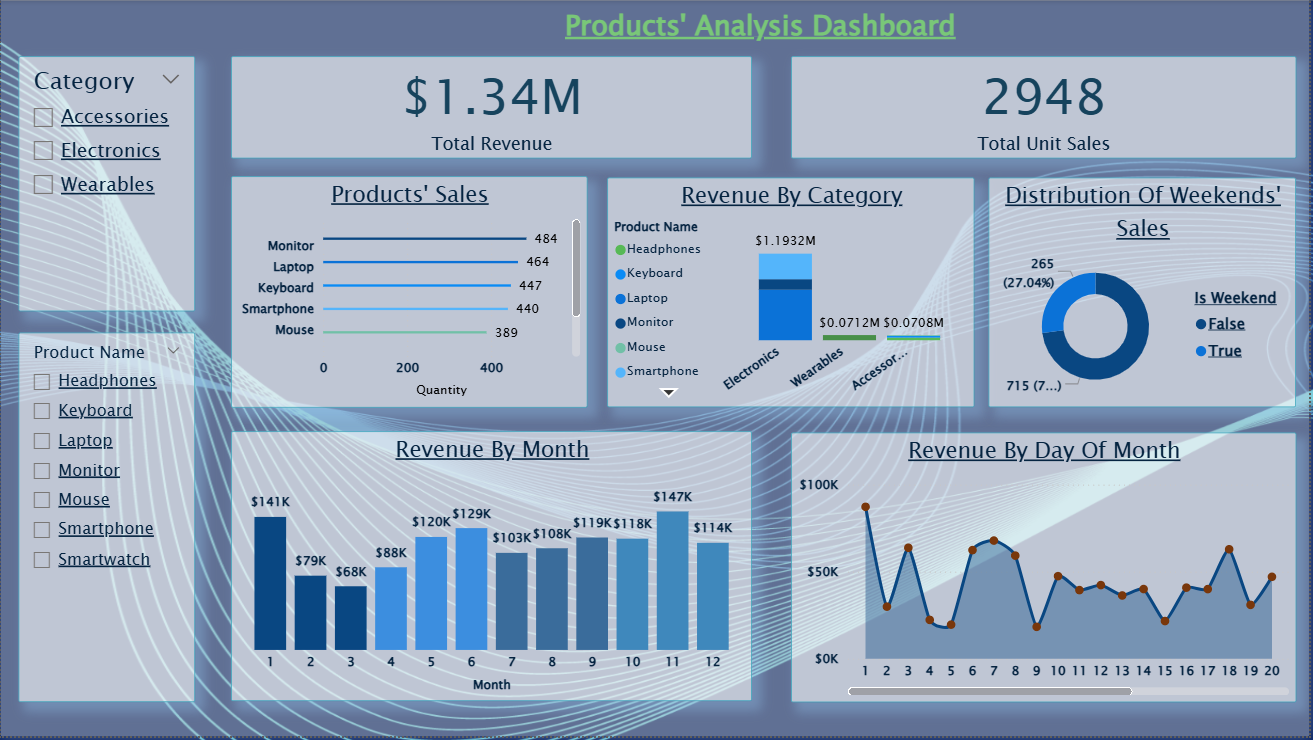

The dashboard page shown, as its layout file describes it:
{"tool":"powerbi","page":{"name":"General Insights","canvas":[1280,720],"ordinal":0},"visuals":[{"type":"card","fields":{"Values":["Sum(cleaned_transactions.Total Price)"]},"box":[225,55,509.9,100.3],"z":0},{"type":"card","fields":{"Values":["Sum(cleaned_transactions.Quantity)"]},"box":[772.8,55,494,100.3],"z":1000},{"type":"slicer","fields":{"Values":["cleaned_transactions.Category"]},"box":[17.1,55,172.4,249.5],"z":2000},{"type":"slicer","fields":{"Values":["cleaned_transactions.Product Name"]},"box":[17.1,325.3,172.4,362],"z":3000},{"type":"clusteredBarChart","title":"Products'' Sales","fields":{"Category":["cleaned_transactions.Product Name"],"Y":["Sum(cleaned_transactions.Quantity)"],"Series":["cleaned_transactions.Product Name"]},"box":[225,172.4,348.5,226.2],"z":4000},{"type":"columnChart","title":"Revenue By Category","fields":{"Category":["cleaned_transactions.Category"],"Y":["Sum(cleaned_transactions.Total Price)"],"Series":["cleaned_transactions.Product Name"]},"box":[593.1,173.6,359.5,225],"z":5000},{"type":"clusteredColumnChart","title":"Revenue By Month ","fields":{"Category":["cleaned_transactions.Order Month"],"Y":["Sum(cleaned_transactions.Total Price)"]},"box":[225,421.9,509.9,264.1],"z":6000},{"type":"donutChart","title":"Distribution Of Weekends'' Sales","fields":{"Category":["cleaned_transactions.Is Weekend"],"Y":["CountNonNull(cleaned_transactions.Is Weekend)"]},"box":[966,173.6,300.8,225],"z":7000},{"type":"stackedAreaChart","title":"Revenue By Day Of Month","fields":{"Category":["cleaned_transactions.Order Day"],"Y":["Sum(cleaned_transactions.Total Price)"]},"box":[772.8,423.1,494,264.1],"z":8000},{"type":"textbox","box":[465.9,0,553.9,55],"z":9000}]}

Visuals, with their boxes in screenshot pixels (x1, y1, x2, y2), scaled from the page's 1280x720 canvas onto the 1313x740 screenshot:
card - Sum(cleaned_transactions.Total Price): 231/57/754/160
card - Sum(cleaned_transactions.Quantity): 793/57/1299/160
slicer - cleaned_transactions.Category: 18/57/194/313
slicer - cleaned_transactions.Product Name: 18/334/194/706
"Products'' Sales" clusteredBarChart: 231/177/588/410
"Revenue By Category" columnChart: 608/178/977/410
"Revenue By Month " clusteredColumnChart: 231/434/754/705
"Distribution Of Weekends'' Sales" donutChart: 991/178/1299/410
"Revenue By Day Of Month" stackedAreaChart: 793/435/1299/706
textbox: 478/0/1046/57
